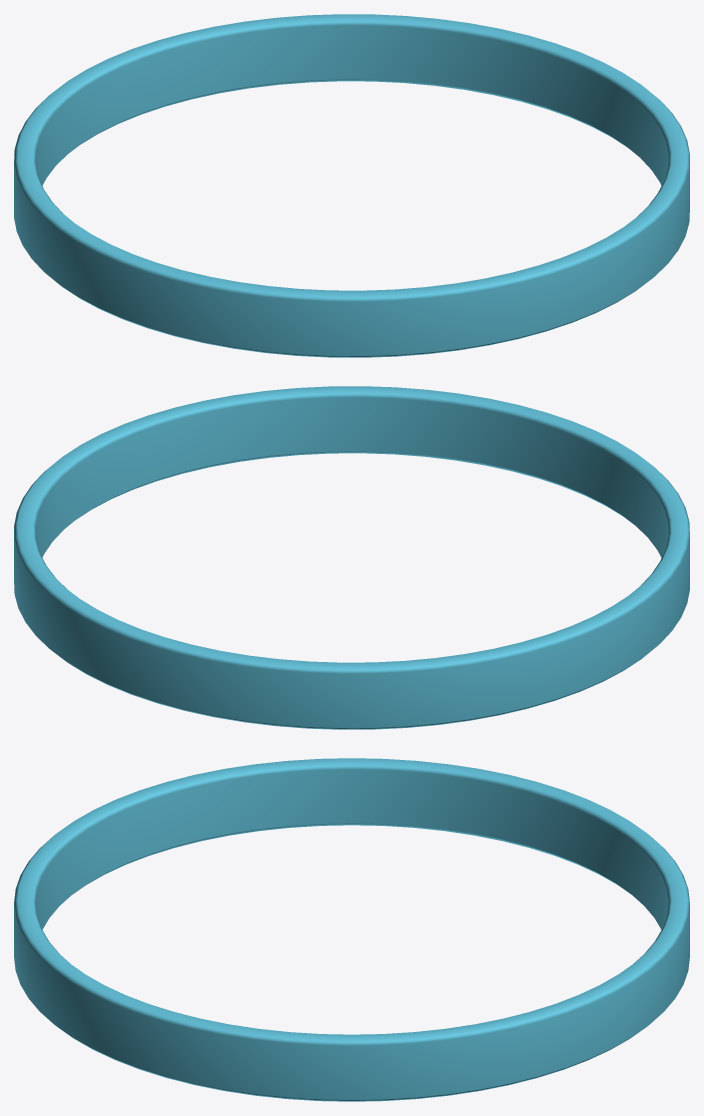
The picture shows the model from 3 angles, top to bottom: view 1: azimuth 30°, elevation 25°; view 2: azimuth 150°, elevation 25°; view 3: azimuth 270°, elevation 25°; orthographic projection.
Parts seen in each view (by area): view 1: seal_body; view 2: seal_body; view 3: seal_body.
Part boxes in pixels (<box>): seal_body: <box>14,14,689,357</box>; seal_body: <box>14,386,689,729</box>; seal_body: <box>14,758,689,1101</box>.
Size of the model in its own units: 0.1798 by 0.018 by 0.1798.
